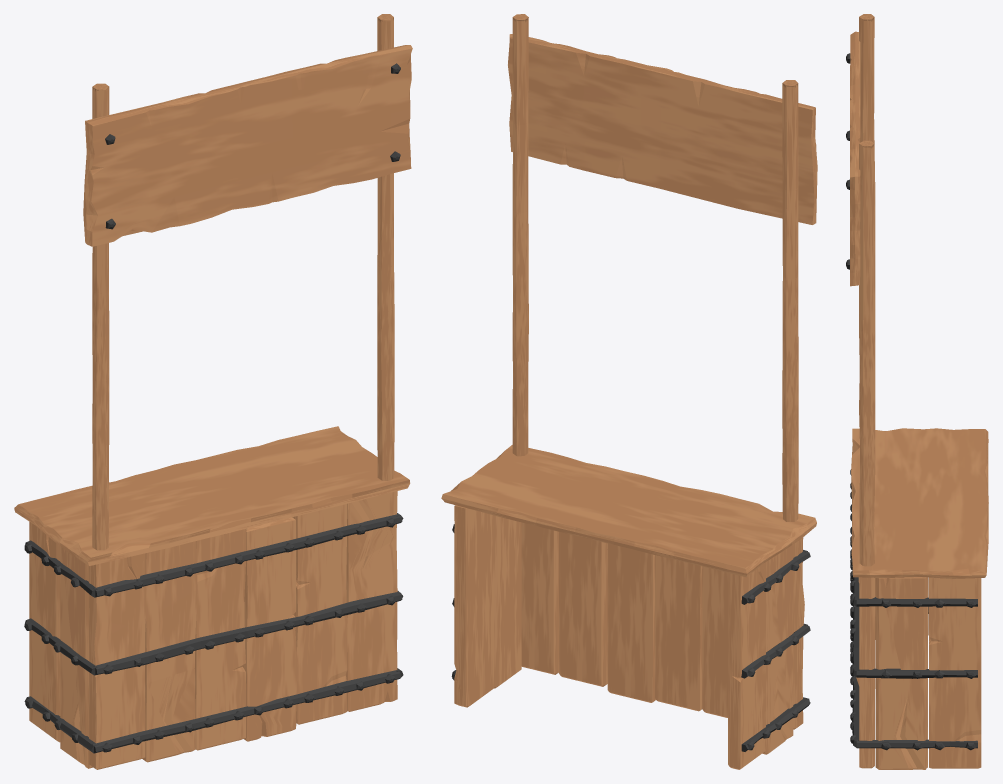
File: stand.glb
The picture shows the model from 3 angles, left to right: view 1: azimuth 30°, elevation 25°; view 2: azimuth 150°, elevation 25°; view 3: azimuth 270°, elevation 25°; orthographic projection. The views are drawn at different scales.
Parts seen in each view (by area): view 1: Cube.022; view 2: Cube.022; view 3: Cube.022.
Part boxes in pixels (x1,y1,x2,y2): Cube.022: (14,14,412,769); Cube.022: (441,14,817,769); Cube.022: (846,14,988,769).
Bounding box in the file's own units: 13.14 × 26.54 × 5.47.
Materials: 2 (1 with a texture image).
